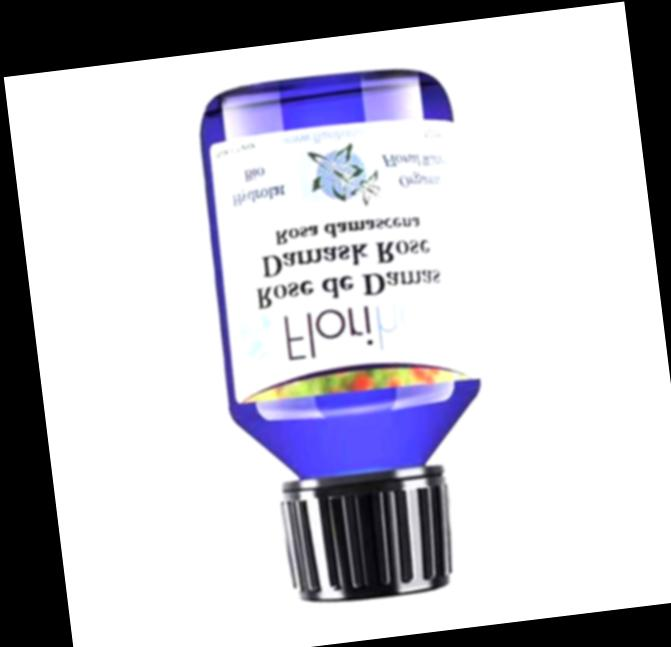cosmetic: (187, 63, 511, 616)
